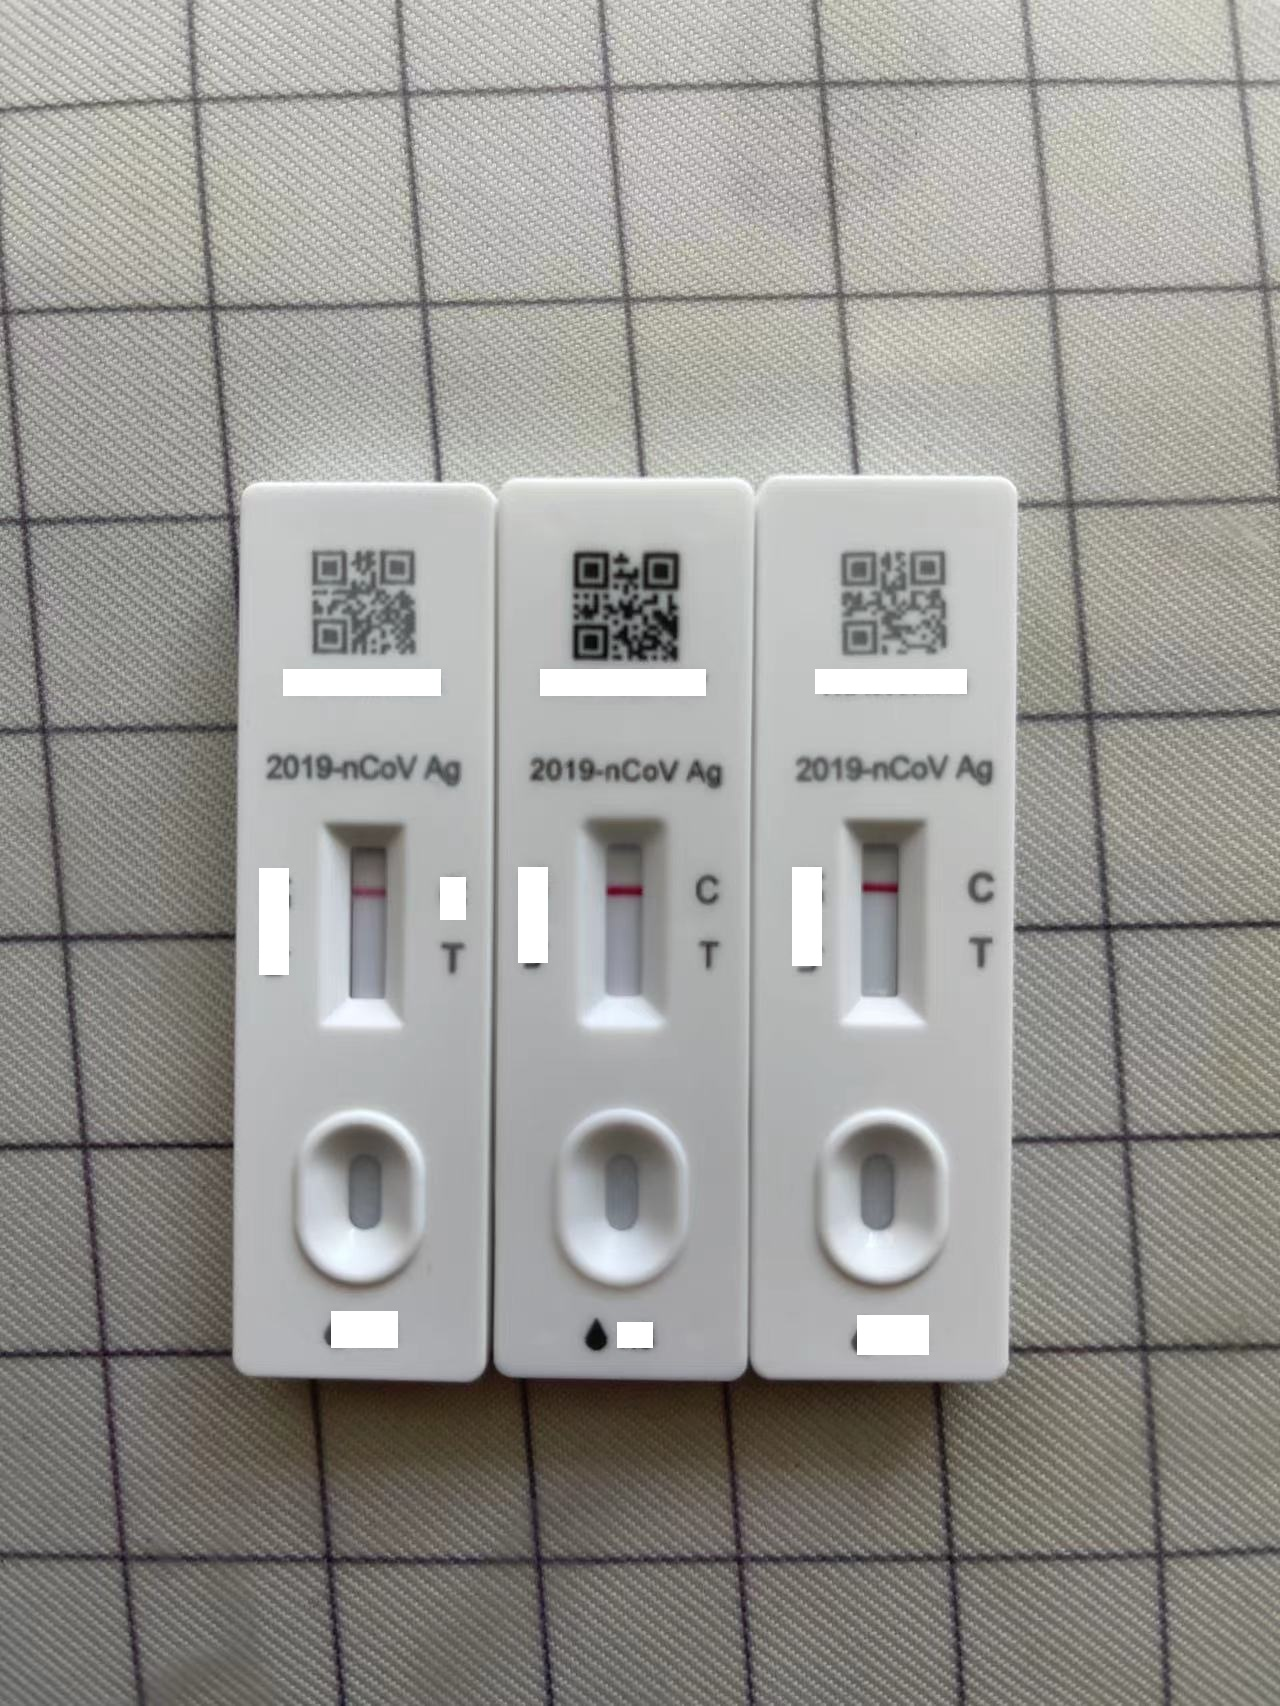negative: (324, 817, 407, 1034), (581, 811, 666, 1022), (843, 813, 926, 1027)
positive: (584, 817, 666, 1006)
